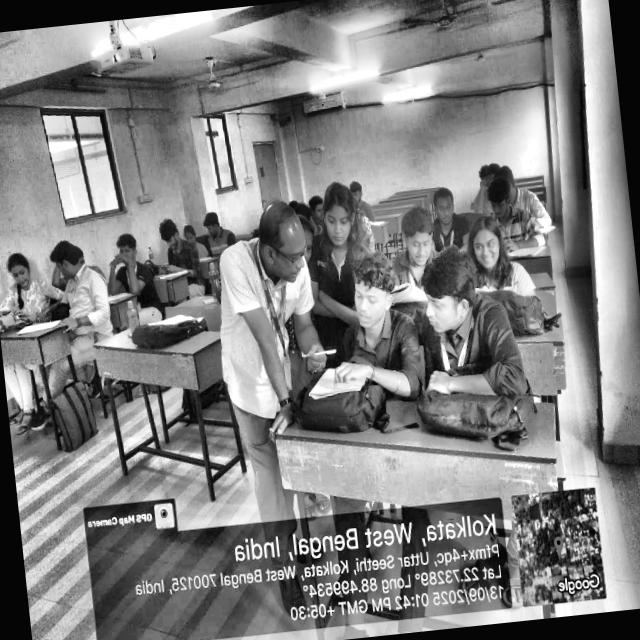Focus: (348, 238, 485, 410), (306, 244, 414, 376), (242, 184, 334, 312), (284, 174, 370, 293), (0, 239, 102, 323), (150, 202, 201, 285), (466, 161, 528, 227), (418, 169, 469, 238)
Not Focus: (97, 204, 230, 298), (382, 185, 449, 286), (462, 210, 512, 290)
